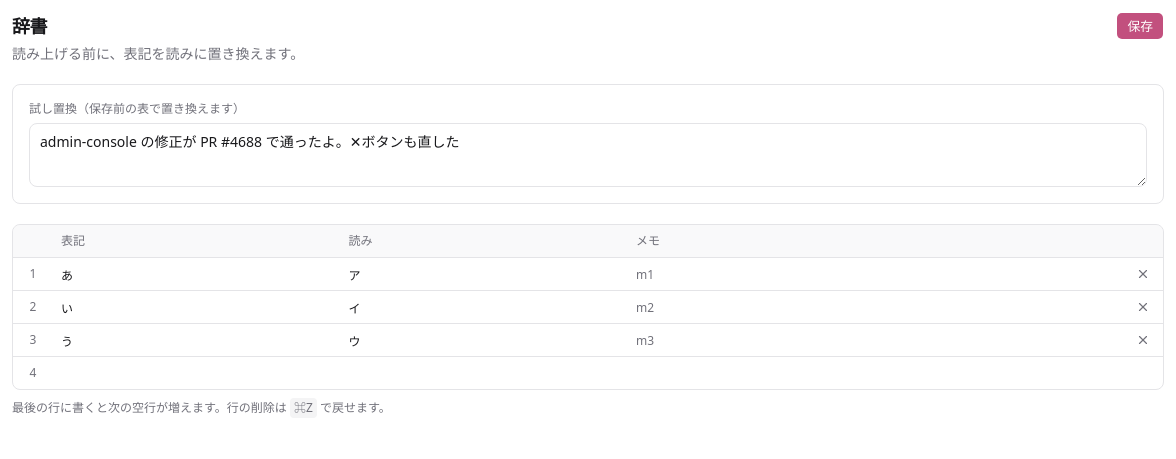
Scenario: 削除は複数回 undo できる（スタック、Cmd/Ctrl+Z、フォーカスが外にあるとき）
Expected: the field showing "あ" is shown, [53, 258, 340, 290]
Click the 1st button named "行を削除" at (1143, 274), box [1129, 260, 1157, 288]
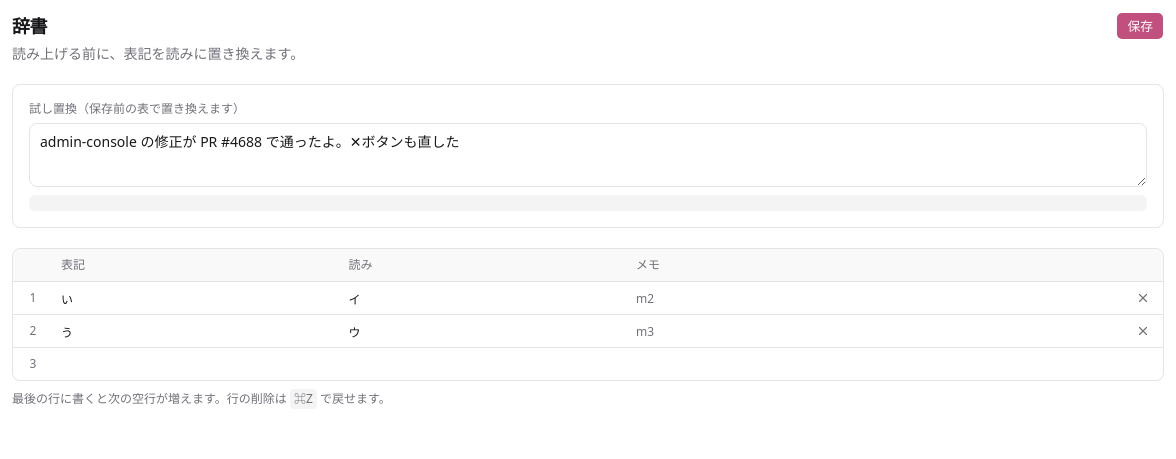
Click the 1st button named "行を削除" at (1143, 298), box [1129, 284, 1157, 312]
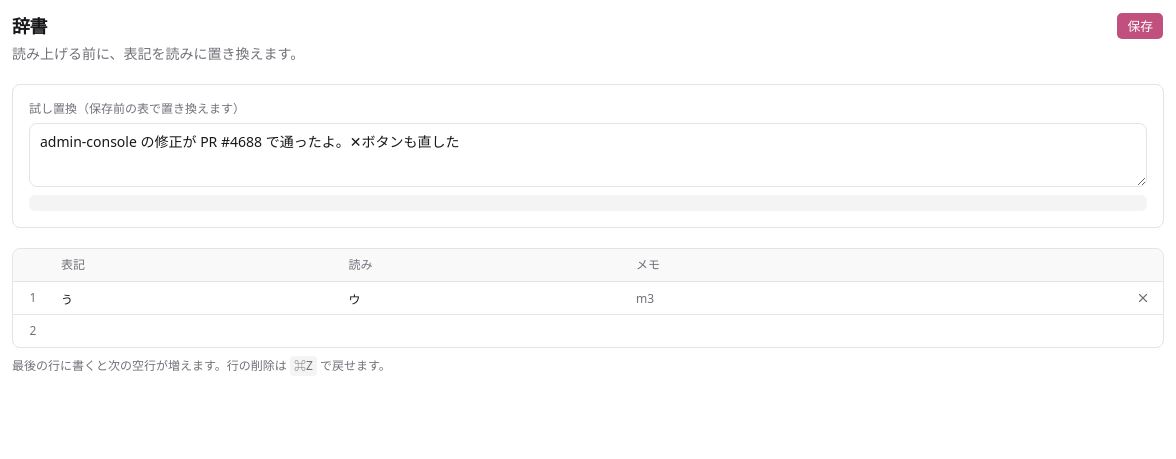
Expected: the field showing "あ" is not shown
Expected: the field showing "い" is not shown
// フォーカスは input の外（document.body）にある。
Press z
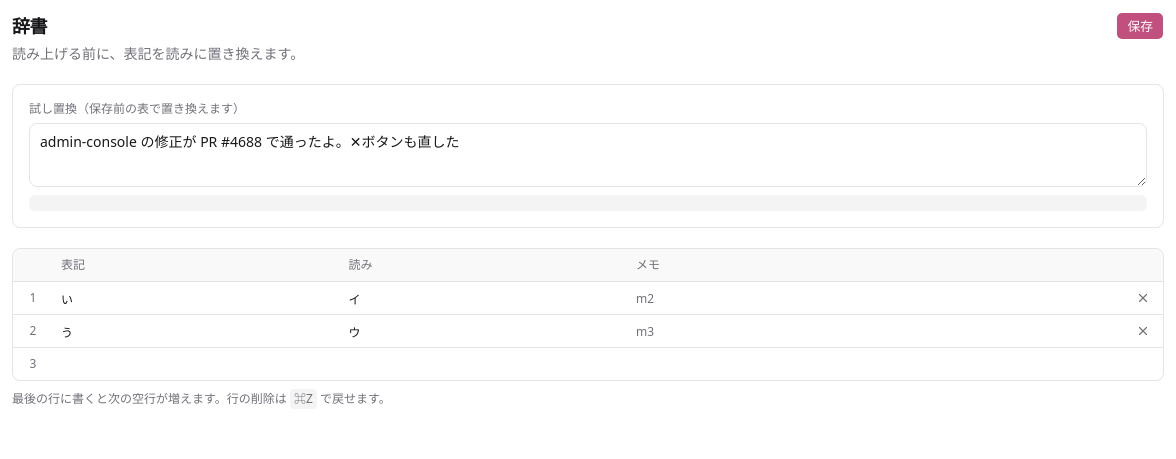
Expected: the field showing "い" is shown, [53, 282, 340, 314]
Press z
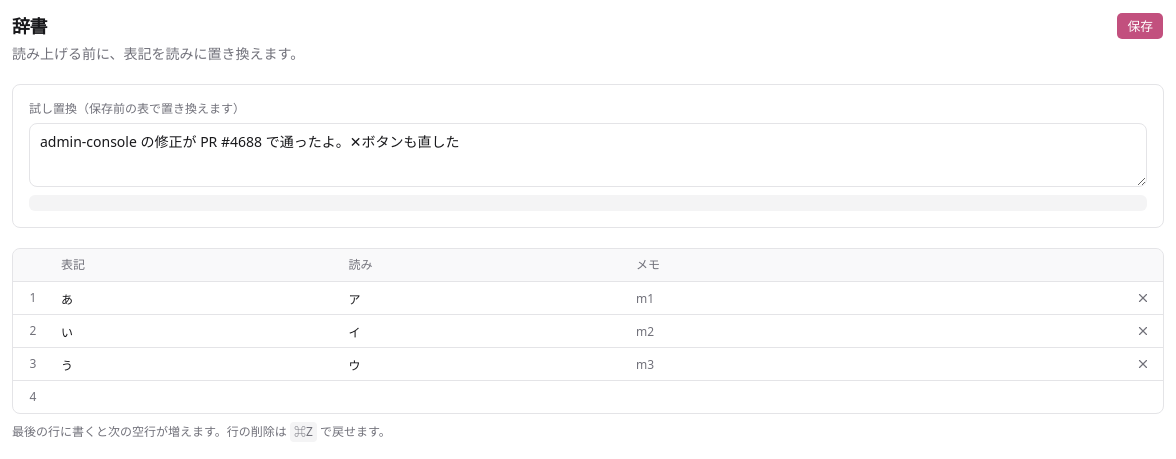
Expected: the field showing "あ" is shown, [53, 282, 340, 314]
